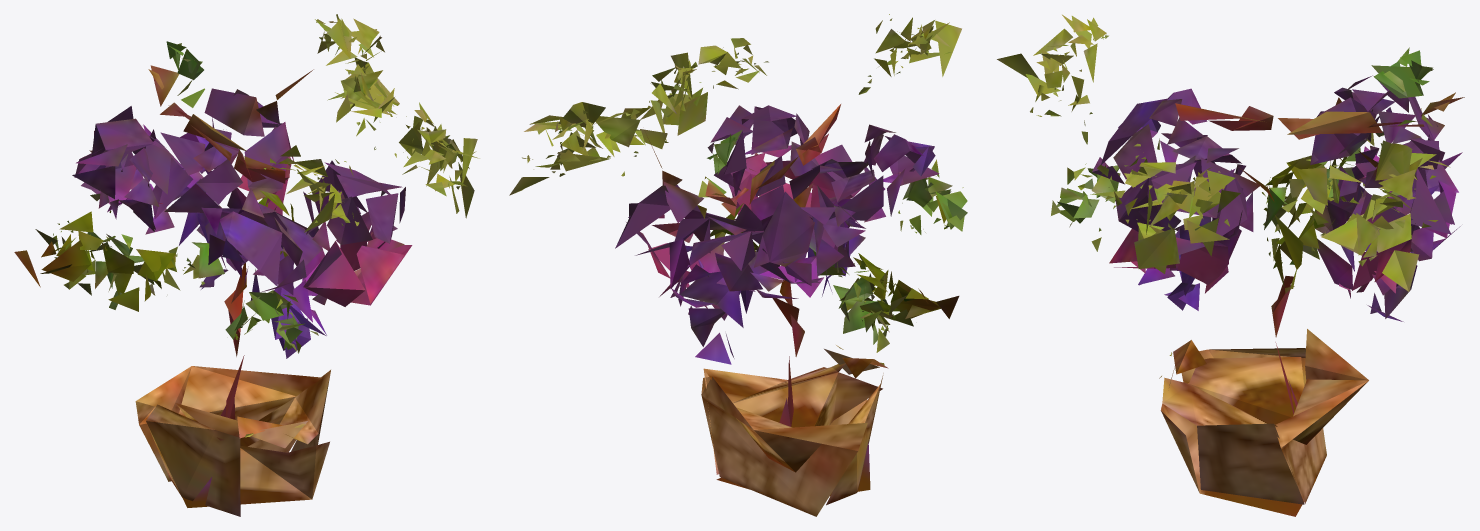
The model's file is loc_sa_nat_vine.glb.
The picture shows the model from 3 angles, left to right: view 1: azimuth 30°, elevation 25°; view 2: azimuth 150°, elevation 25°; view 3: azimuth 270°, elevation 25°; orthographic projection. The views are drawn at different scales.
Parts seen in each view (by area): view 1: tripo_node_defbf089-c3a1-47b6-97a1-b80b520c6ec0; view 2: tripo_node_defbf089-c3a1-47b6-97a1-b80b520c6ec0; view 3: tripo_node_defbf089-c3a1-47b6-97a1-b80b520c6ec0.
Boxes of the visible parts, x1,y1,x2,y2 form: tripo_node_defbf089-c3a1-47b6-97a1-b80b520c6ec0: [14, 14, 479, 516]; tripo_node_defbf089-c3a1-47b6-97a1-b80b520c6ec0: [509, 14, 967, 516]; tripo_node_defbf089-c3a1-47b6-97a1-b80b520c6ec0: [997, 14, 1464, 516].
Size of the model in its own units: 0.6936 by 0.6599 by 0.629.
Materials: 1 (1 with a texture image).
